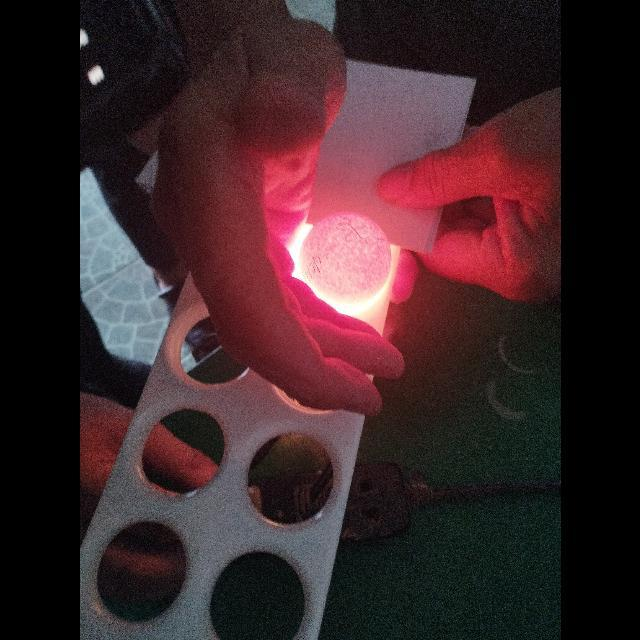Infertile: (306, 218, 388, 290)
